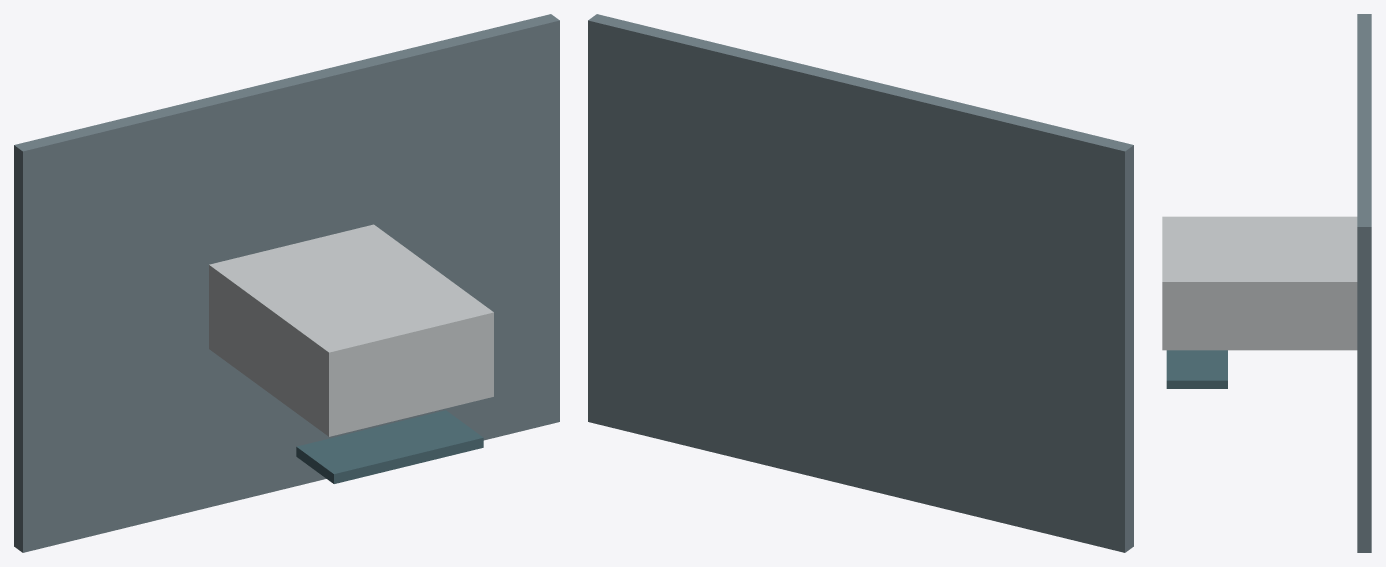
The model's file is infusion-pump-medium.glb.
The picture shows the model from 3 angles, left to right: view 1: azimuth 30°, elevation 25°; view 2: azimuth 150°, elevation 25°; view 3: azimuth 270°, elevation 25°; orthographic projection. The views are drawn at different scales.
Parts seen in each view (by area): view 1: presentation_base_detail, pump_body, pump_display_bezel_detail; view 2: presentation_base_detail; view 3: pump_body, presentation_base_detail, pump_display_bezel_detail.
Boxes of the visible parts, bbox=[...] form: presentation_base_detail: bbox=[14, 14, 559, 552]; pump_body: bbox=[209, 224, 493, 436]; pump_display_bezel_detail: bbox=[296, 410, 483, 483]; presentation_base_detail: bbox=[588, 14, 1133, 552]; pump_body: bbox=[1162, 216, 1357, 350]; presentation_base_detail: bbox=[1357, 14, 1371, 552]; pump_display_bezel_detail: bbox=[1166, 350, 1227, 388].
Size of the model in its own units: 2.8 by 2 by 1.16.
